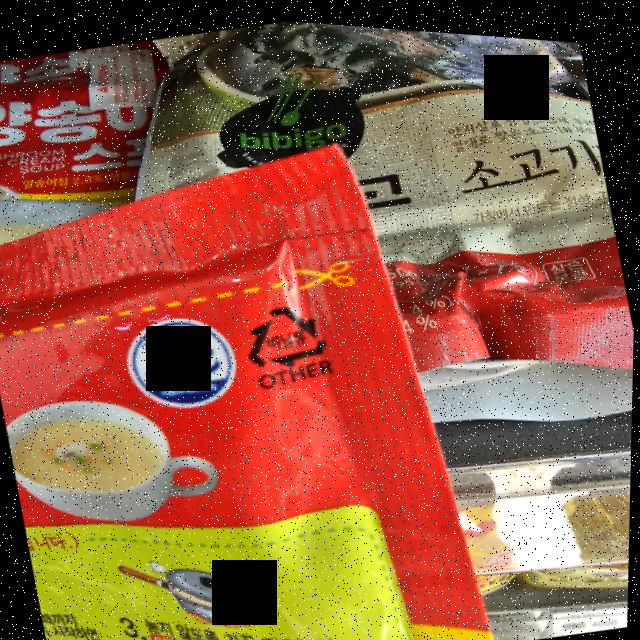Vinyl: (235, 288, 335, 372)
